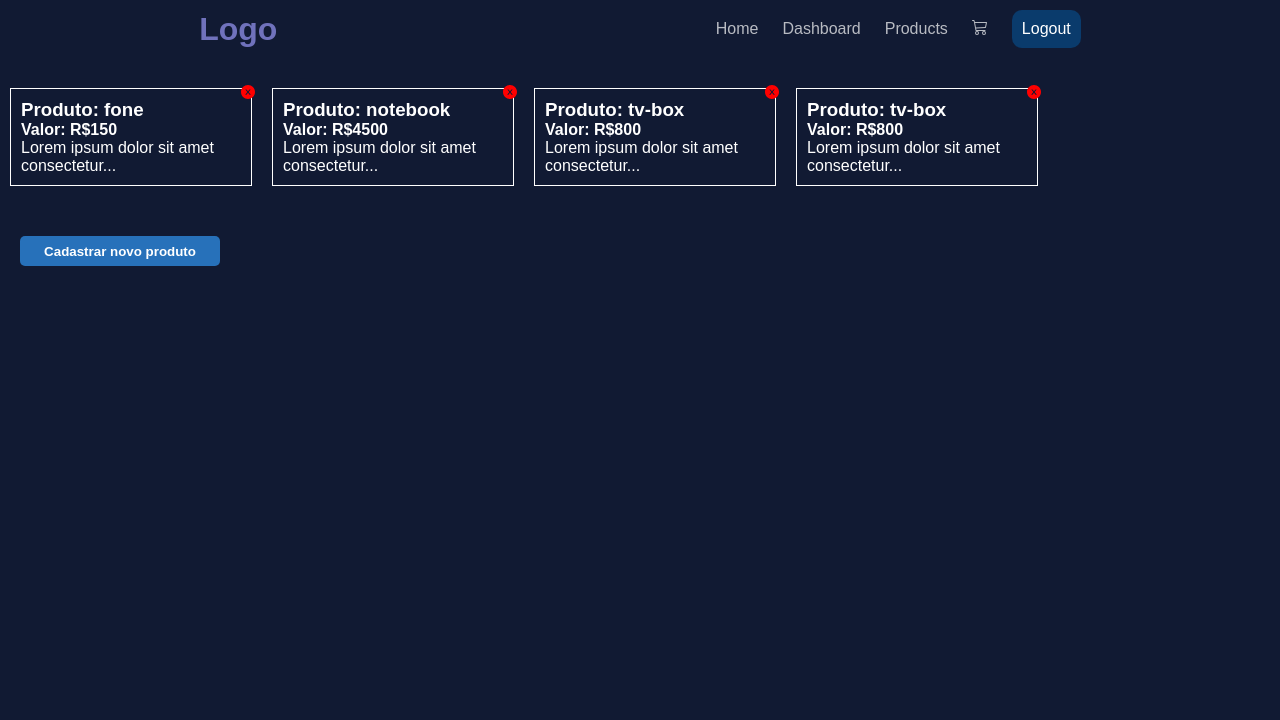
<Products/> › Deve ser possível abrir e fechar o modal de cadastrar produtos
The image size is (1280, 720).
Click the button with test id "cadastrar-produto": (120, 251) [20, 236, 220, 266]
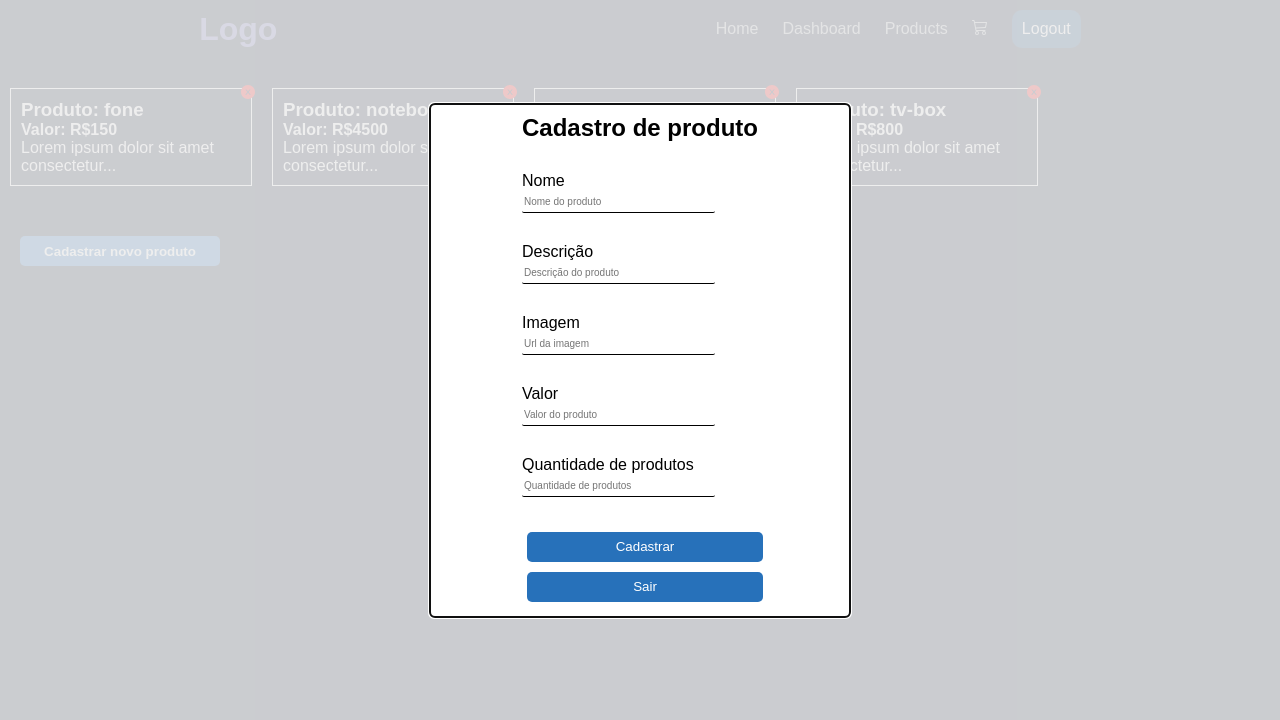
Now the form with test id "modal" that starts with "Cadastro de produto" is shown, box [522, 114, 758, 606]
Click the button with test id "closaModal": (645, 586) [527, 572, 763, 602]
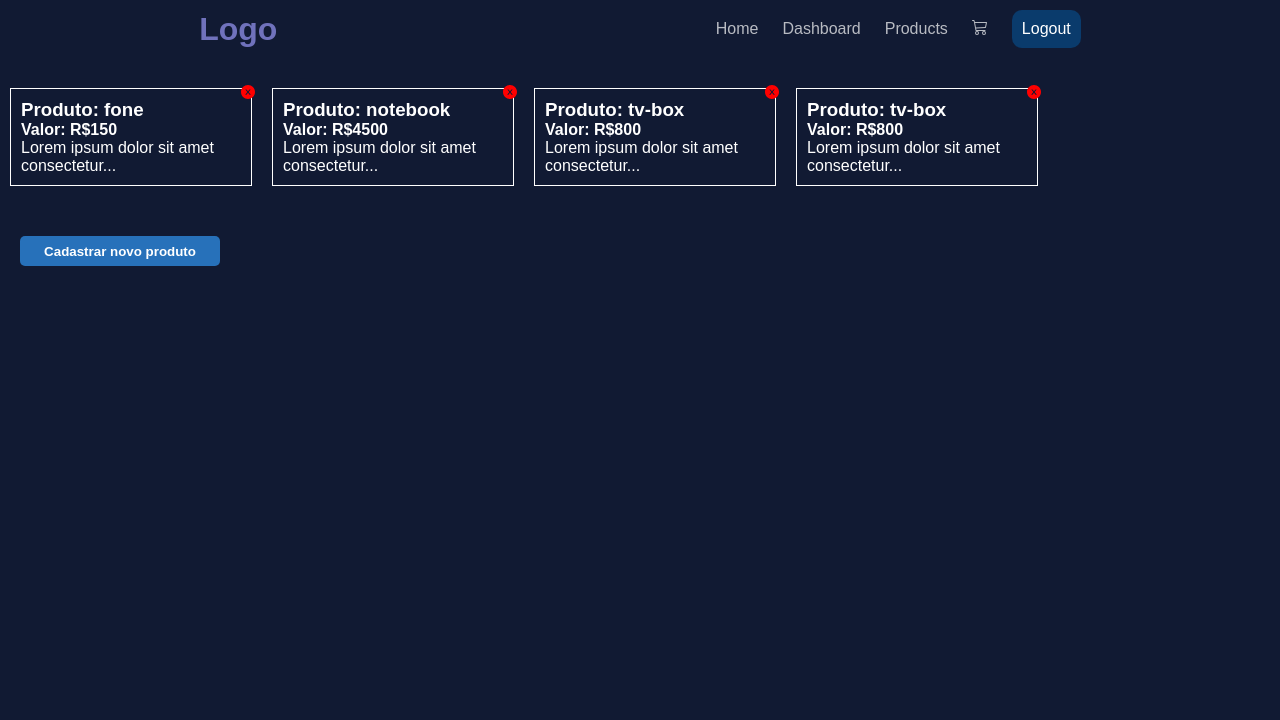
Now the form with test id "modal" is gone
